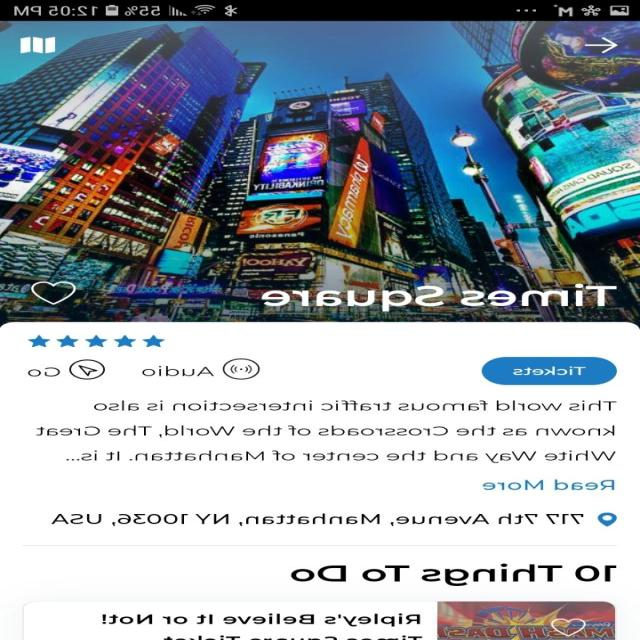Icon: (28, 335, 165, 347), (32, 281, 76, 304), (70, 360, 107, 380), (21, 37, 56, 54), (585, 37, 619, 53), (598, 512, 616, 527)
Image: (1, 21, 640, 322), (437, 601, 615, 640), (223, 358, 261, 380)
Text: (37, 400, 618, 463), (262, 283, 617, 311), (103, 613, 423, 639), (291, 563, 617, 585), (52, 513, 584, 526), (482, 479, 616, 490), (143, 366, 215, 376), (28, 368, 61, 377)
TextButton: (482, 356, 618, 384)
